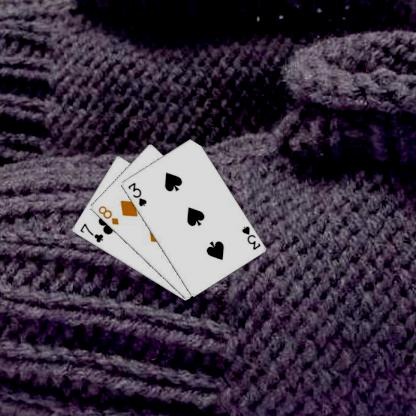3S: (238, 224, 262, 251), (125, 180, 148, 207)
7C: (77, 221, 104, 244)
8D: (95, 203, 120, 226)
